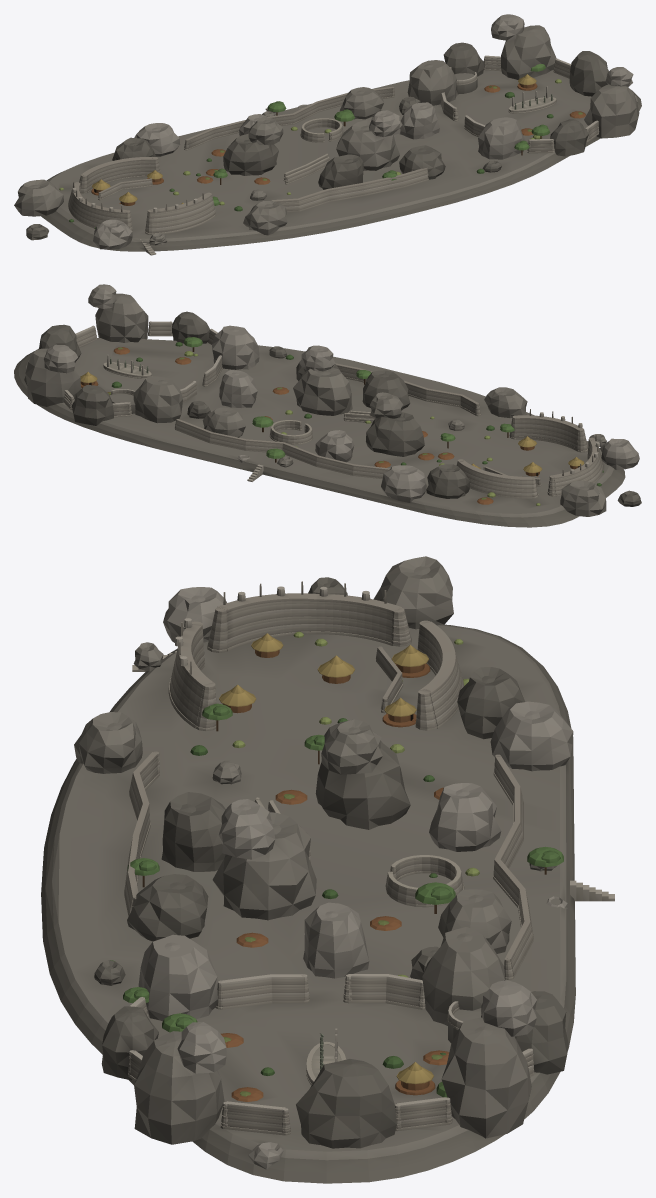
File: hill-complex-1500.glb
3 renders of one model, top to bottom at view 1: azimuth 30°, elevation 25°; view 2: azimuth 150°, elevation 25°; view 3: azimuth 270°, elevation 25°, orthographic. The views are drawn at different scales.
Parts seen in each view (by area): view 1: p0_kopje, p1_walls, p4_trees, p3_houses, p2_birds-and-turrets; view 2: p0_kopje, p1_walls, p4_trees, p3_houses, p2_birds-and-turrets; view 3: p0_kopje, p1_walls, p3_houses, p4_trees, p2_birds-and-turrets.
Boxes of the visible parts, x1,y1,x2,y2 form: p0_kopje: (14, 14, 641, 251); p1_walls: (68, 55, 599, 255); p4_trees: (59, 64, 561, 228); p3_houses: (91, 74, 585, 205); p2_birds-and-turrets: (72, 86, 556, 212); p0_kopje: (14, 284, 641, 527); p1_walls: (64, 321, 603, 498); p4_trees: (110, 337, 603, 505); p3_houses: (80, 347, 584, 504); p2_birds-and-turrets: (103, 355, 599, 475); p0_kopje: (41, 556, 575, 1183); p1_walls: (124, 593, 614, 1135); p3_houses: (219, 633, 449, 1101); p4_trees: (110, 631, 563, 1097); p2_birds-and-turrets: (175, 581, 386, 1085).
Bounding box in the file's own units: 283 × 26.92 × 116.
